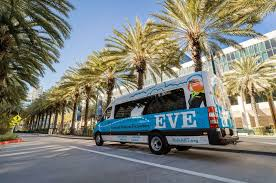bus: (93, 71, 239, 154)
